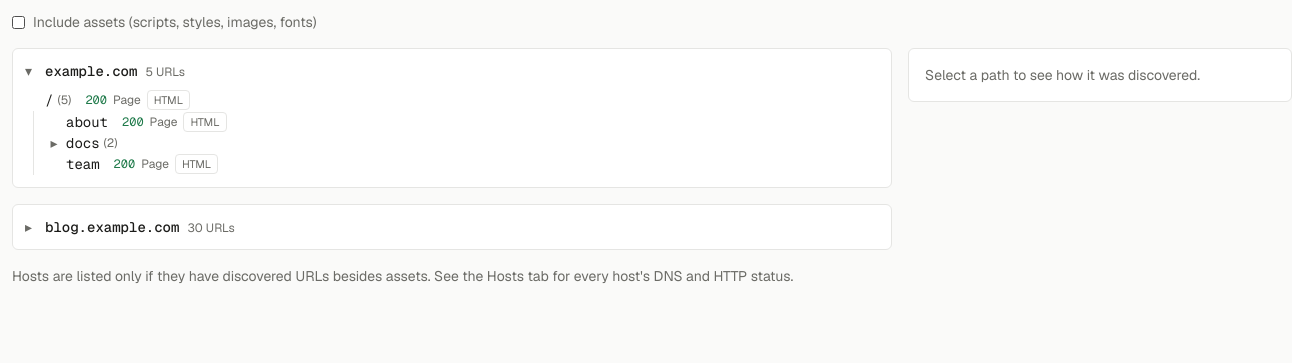
SiteMap loads only what is shown › reloads the trees with assets when they are included
Expected: the button "about" is shown, [66,112,108,132]
Click the checkbox at (18, 22), box [12,16,25,28]
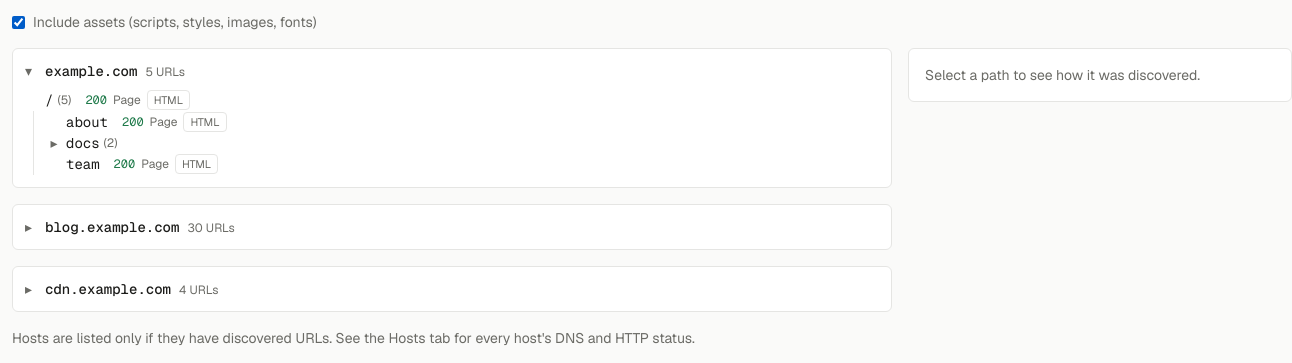
Expected: the text "cdn.example.com" is shown, [45,279,171,299]
